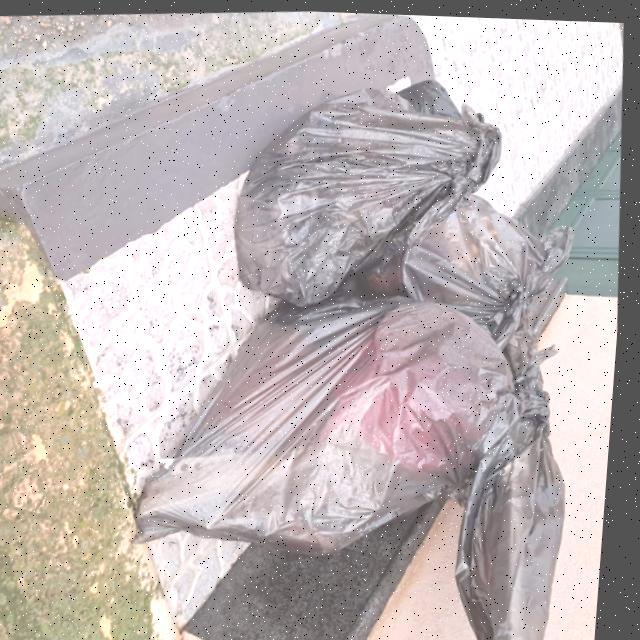Mixed Waste -Black Bag-: (125, 282, 594, 640), (224, 67, 517, 315), (331, 183, 587, 362)
